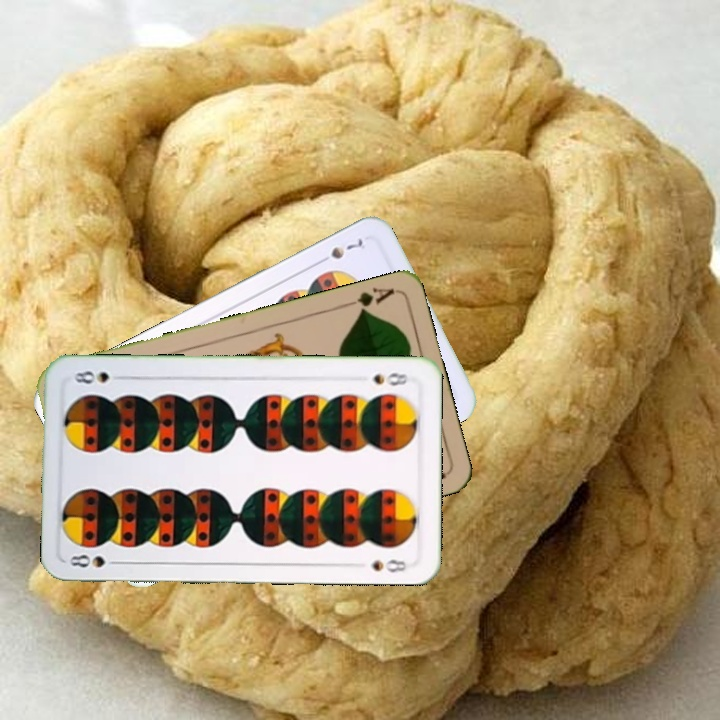GA: (339, 284, 397, 317)
S7: (313, 235, 366, 267)
S8: (66, 550, 125, 571), (369, 368, 416, 389)
